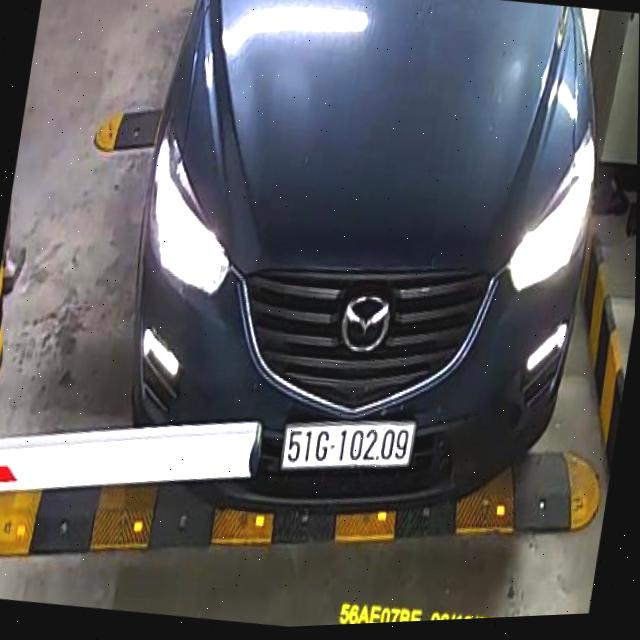car: (97, 0, 625, 563)
plate: (273, 402, 424, 490)
